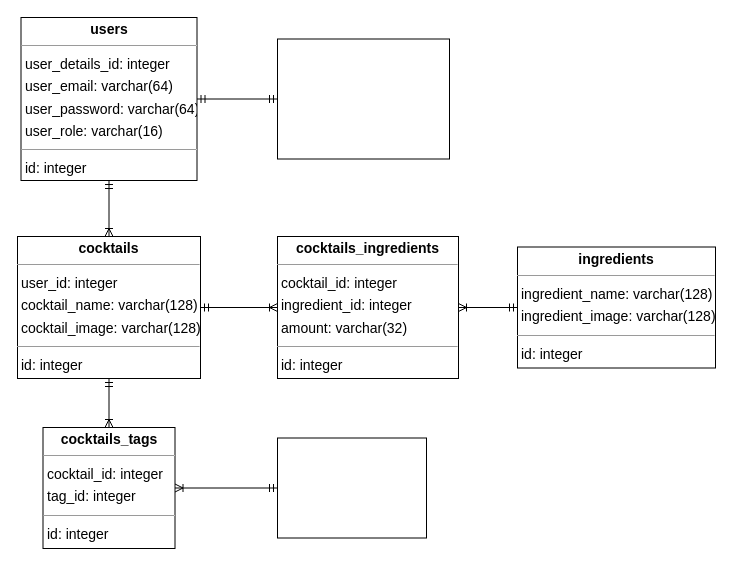
The diagram is 733 pixels wide and 566 high, and some of its shapes have lost their labels. Here are the shapes that lost their labels. From the top down, the box of each, then its label:
(276, 38, 450, 159): users_details user_name: varchar(32) user_surname: varchar(32) id: integer
(276, 437, 426, 538): tags tag_name: varchar(32) id: integer
